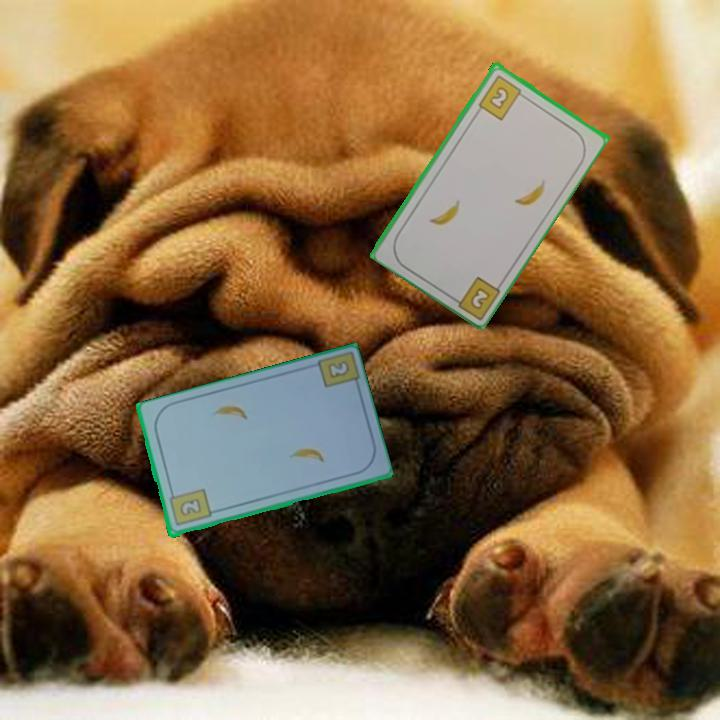2b: (474, 71, 529, 123), (165, 486, 214, 529), (466, 283, 493, 312), (324, 357, 352, 381)
